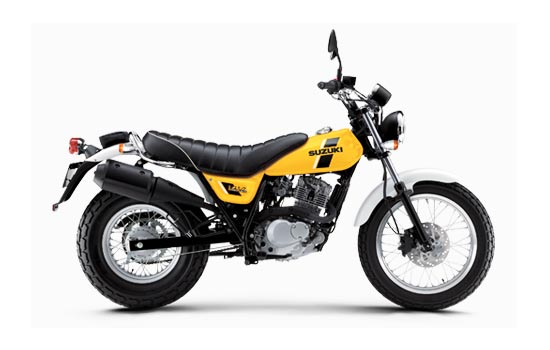motorcycle: (68, 75, 495, 311)
